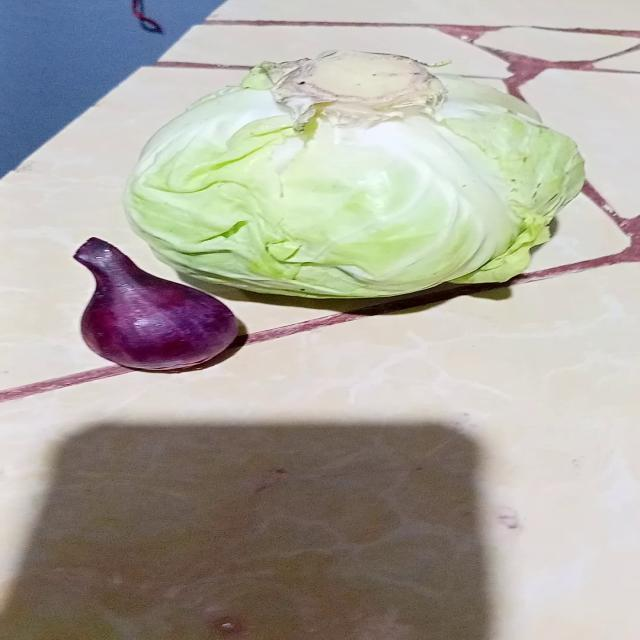cabbage: (123, 51, 580, 303)
onion: (72, 238, 251, 375)
